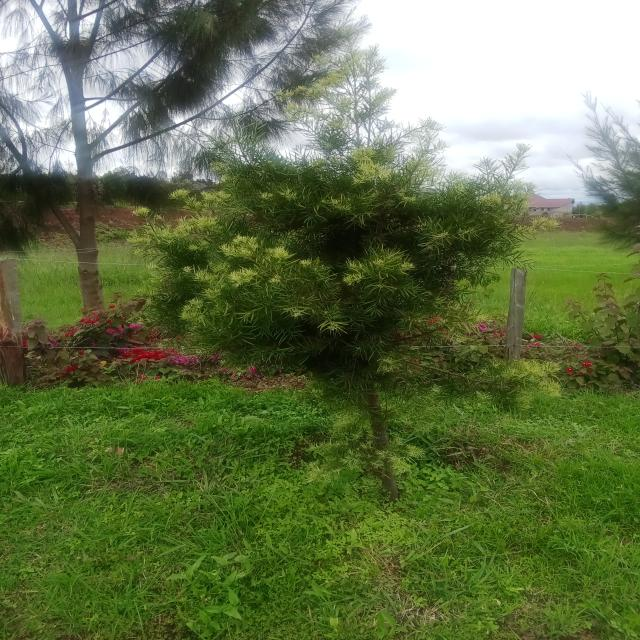Podocarpus falcatus: (124, 46, 532, 487)
